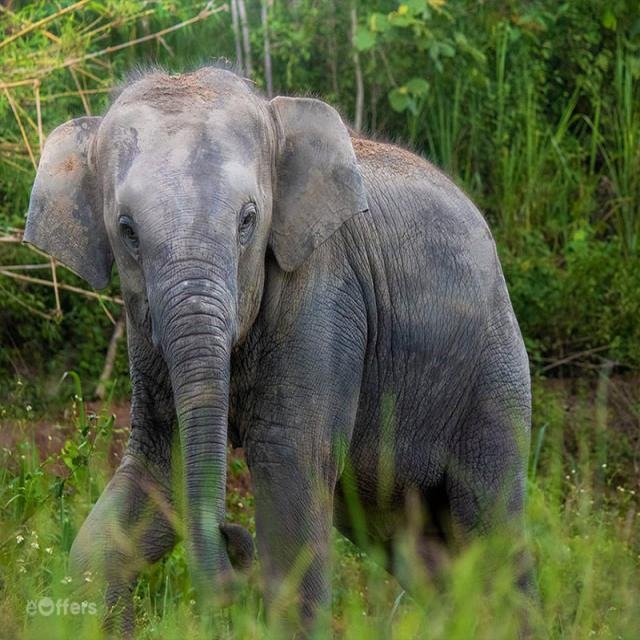Elephant: (32, 45, 561, 633)
